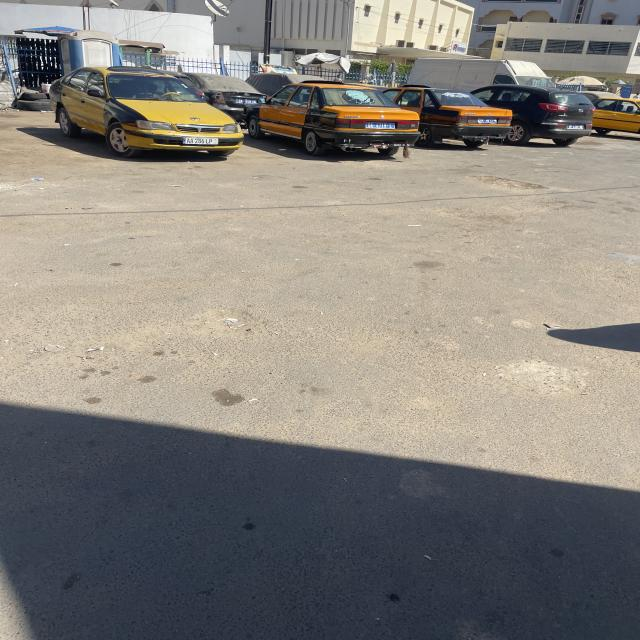fourgon: (409, 59, 556, 92)
particulier: (471, 86, 594, 146), (169, 74, 268, 124)
taxi: (51, 67, 244, 159), (248, 82, 421, 156), (386, 86, 514, 149), (593, 99, 640, 135)
